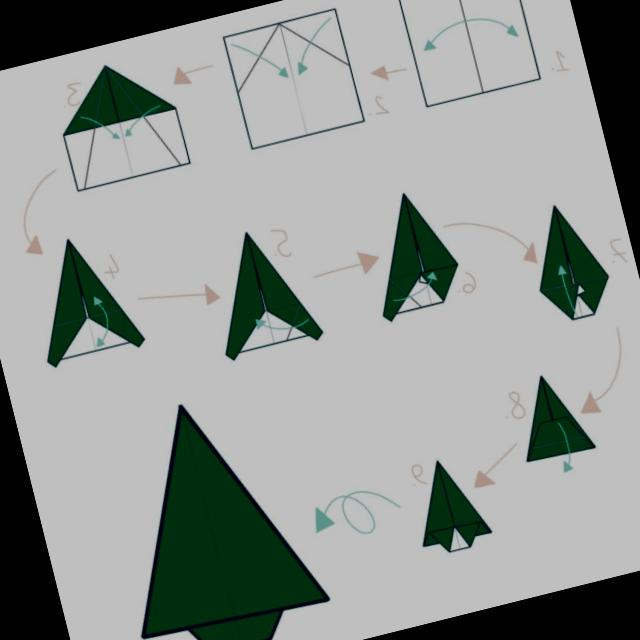arrow: (308, 479, 405, 543), (424, 18, 518, 50), (231, 44, 287, 78), (297, 18, 329, 74), (393, 272, 436, 301), (125, 105, 160, 136), (80, 116, 119, 139), (557, 266, 575, 314), (93, 297, 108, 347), (557, 422, 571, 472), (255, 319, 308, 330)
fold-line: (99, 63, 184, 172), (276, 21, 312, 142), (102, 63, 136, 183), (78, 64, 109, 195), (273, 21, 352, 72), (233, 22, 283, 100), (452, 0, 487, 96), (228, 300, 304, 324), (51, 306, 126, 330), (537, 272, 611, 296), (526, 429, 594, 453), (385, 277, 428, 310), (278, 302, 304, 348)
